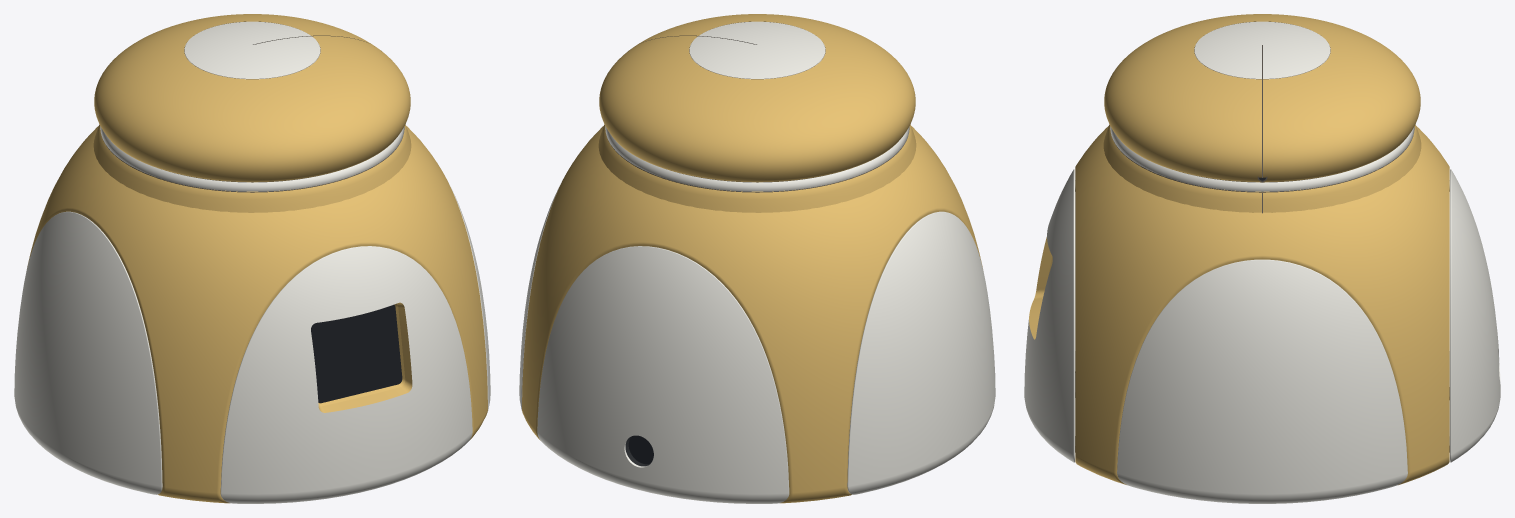
The model's file is somo-assembly.glb.
3 views of the same model, side by side, from view 1: azimuth 30°, elevation 25°; view 2: azimuth 150°, elevation 25°; view 3: azimuth 270°, elevation 25° (orthographic).
Visible parts, largest first — view 1: Shell_Main_Amber, Panel_Front_Cream, Head_Dome_Amber, Panel_Left_Cream, Screen_Chest_TFT, Head_Dome_Cap, Panel_Right_Cream; view 2: Shell_Main_Amber, Panel_Back_Cream, Head_Dome_Amber, Panel_Left_Cream, Head_Dome_Cap, Panel_Right_Cream; view 3: Shell_Main_Amber, Panel_Right_Cream, Head_Dome_Amber, Panel_Back_Cream, Panel_Front_Cream, Head_Dome_Cap.
Boxes of the visible parts, left/top/right/bottom form: Shell_Main_Amber: left=27, top=124, right=487, bottom=503; Panel_Front_Cream: left=220, top=246, right=472, bottom=503; Head_Dome_Amber: left=94, top=14, right=410, bottom=182; Panel_Left_Cream: left=14, top=211, right=162, bottom=494; Screen_Chest_TFT: left=311, top=304, right=402, bottom=403; Head_Dome_Cap: left=184, top=21, right=320, bottom=79; Panel_Right_Cream: left=443, top=173, right=490, bottom=410; Shell_Main_Amber: left=522, top=124, right=982, bottom=503; Panel_Back_Cream: left=537, top=246, right=789, bottom=503; Head_Dome_Amber: left=599, top=14, right=915, bottom=182; Panel_Left_Cream: left=847, top=211, right=995, bottom=494; Head_Dome_Cap: left=689, top=21, right=825, bottom=79; Panel_Right_Cream: left=519, top=173, right=566, bottom=410; Shell_Main_Amber: left=1075, top=124, right=1449, bottom=485; Panel_Right_Cream: left=1117, top=259, right=1407, bottom=503; Head_Dome_Amber: left=1104, top=14, right=1420, bottom=182; Panel_Back_Cream: left=1075, top=169, right=1500, bottom=462; Panel_Front_Cream: left=1024, top=169, right=1075, bottom=462; Head_Dome_Cap: left=1194, top=21, right=1330, bottom=79.
Size of the model in its own units: 27.97 by 23.59 by 27.97.
